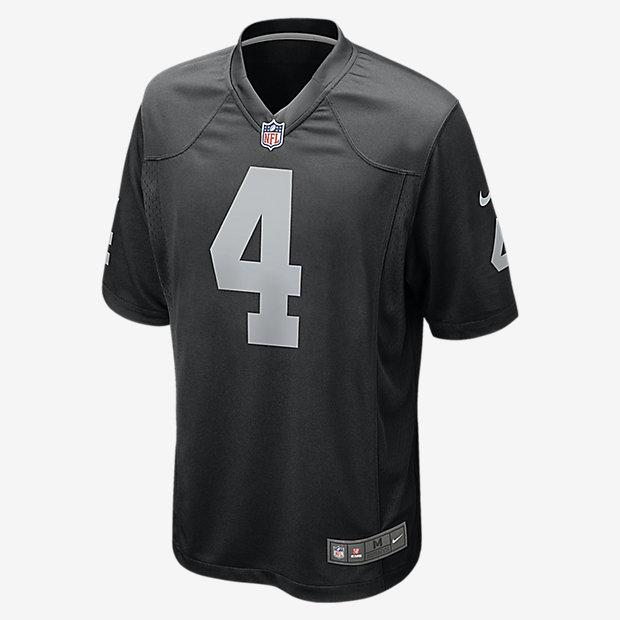teeshirt: (81, 14, 541, 614)
